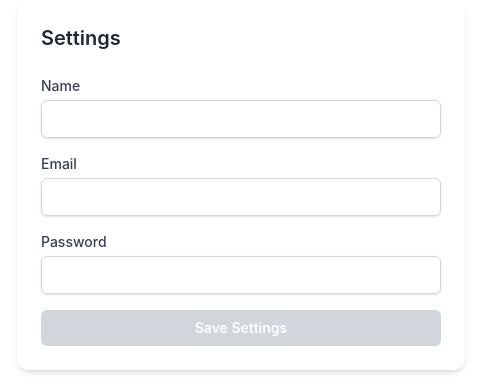
it: SettingsForm › enables submit button when all fields are valid
Step 1. Type "Ada Lovelace" into the field labelled "Name" → (241, 119), box [41,100,441,138]
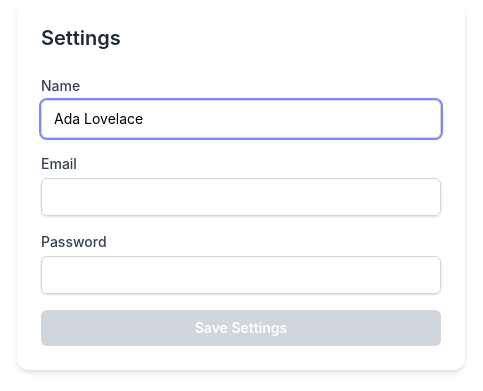
Step 2. Type "ada@example.com" into the field labelled "Email" → (241, 197), box [41,178,441,216]
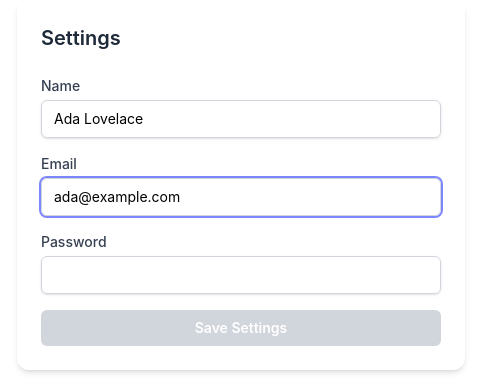
Step 3. Type "secret123" into the password field labelled "Password" → (241, 275), box [41,256,441,294]
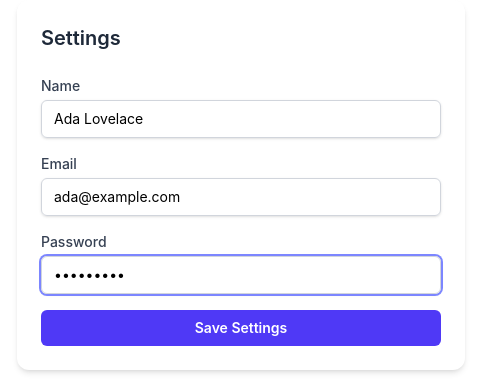
Now the button "Save Settings" is enabled, box [41,310,441,346]
